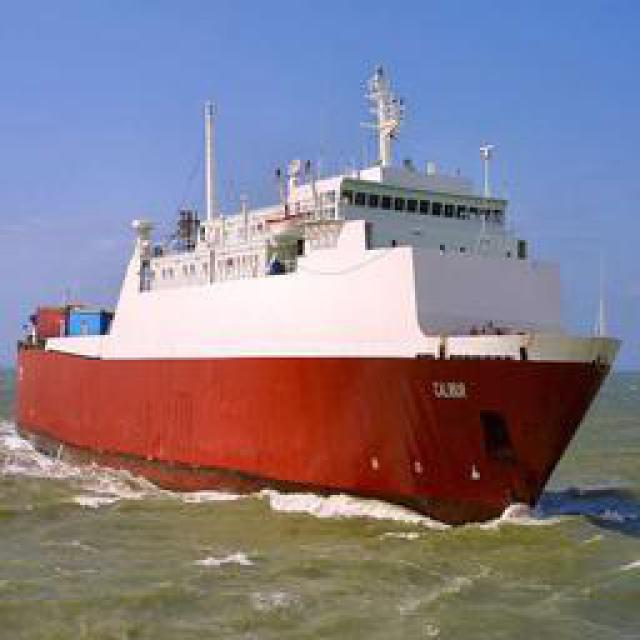Ship: (19, 91, 619, 526)
